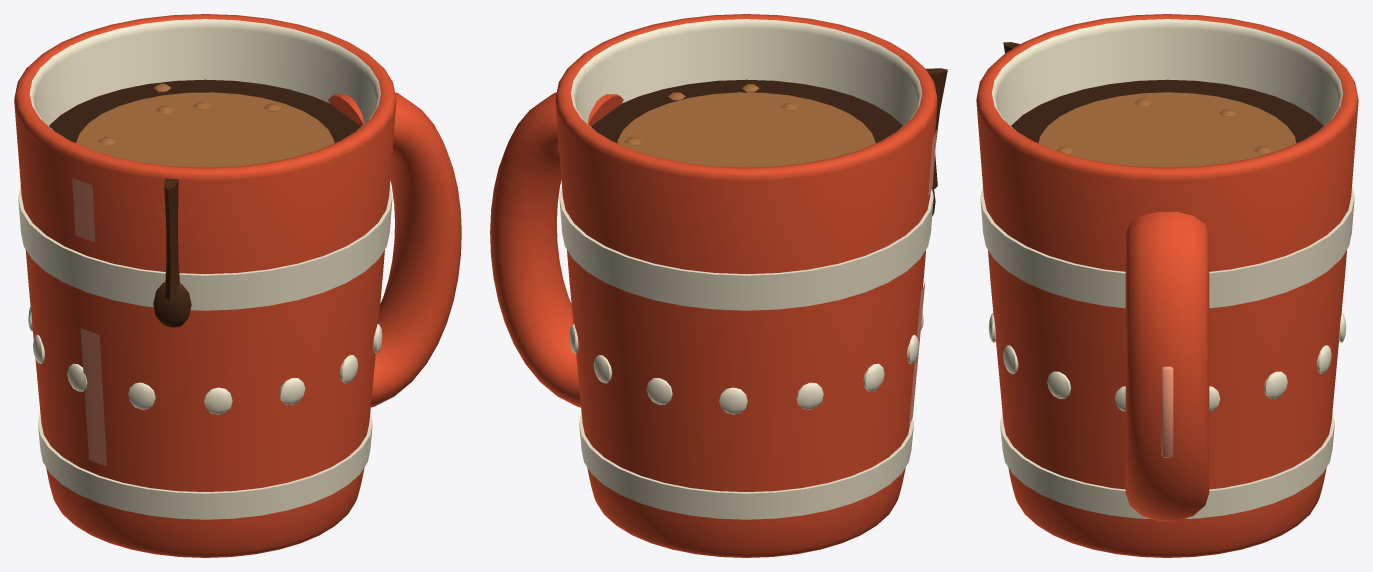
File: coffee_mug.glb
The picture shows the model from 3 angles, left to right: view 1: azimuth 30°, elevation 25°; view 2: azimuth 150°, elevation 25°; view 3: azimuth 270°, elevation 25°; orthographic projection.
Visible parts, largest first — view 1: CoffeeMug; view 2: CoffeeMug; view 3: CoffeeMug.
Part boxes in pixels (x1,y1,x2,y2): CoffeeMug: [14, 14, 461, 557]; CoffeeMug: [490, 14, 947, 557]; CoffeeMug: [976, 14, 1358, 557].
Size of the model in its own units: 4.8 by 4.5 by 3.83.
